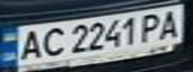1: (118, 15, 142, 46)
2: (66, 20, 90, 56), (84, 19, 109, 53)
4: (103, 16, 127, 48)
A: (15, 27, 48, 62), (154, 7, 187, 40)
C: (36, 25, 69, 58)
P: (136, 11, 169, 43)
